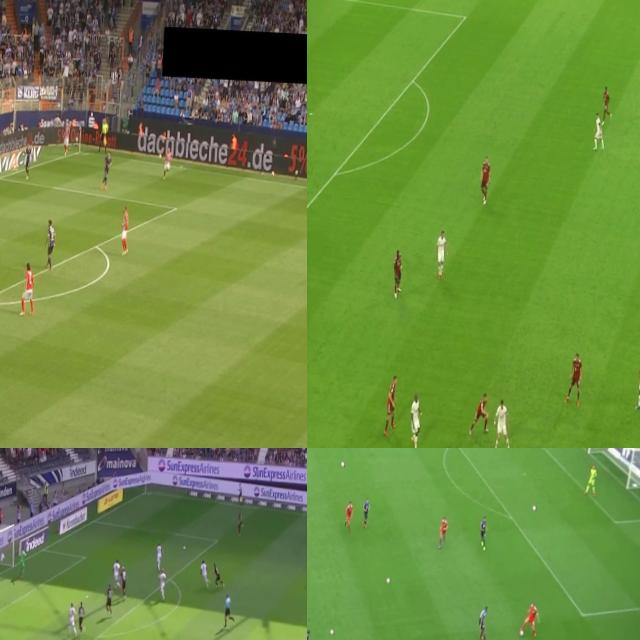ball: (181, 541, 188, 553), (330, 628, 334, 636), (532, 504, 536, 511), (341, 459, 344, 467), (386, 578, 389, 584), (521, 628, 523, 634)
player: (382, 372, 402, 442), (406, 392, 426, 448), (490, 399, 511, 448), (390, 242, 406, 302), (432, 228, 449, 284), (22, 260, 38, 316), (568, 352, 585, 402), (43, 217, 59, 270), (118, 204, 133, 260), (472, 389, 490, 434), (479, 158, 492, 204), (594, 112, 608, 149), (478, 604, 492, 640), (524, 598, 538, 634), (600, 85, 612, 122), (198, 558, 212, 589), (211, 562, 225, 590), (62, 119, 72, 157), (120, 562, 130, 600), (111, 558, 122, 592), (162, 145, 172, 182), (102, 152, 112, 188), (68, 599, 78, 635), (480, 516, 490, 552), (586, 464, 598, 494), (24, 143, 34, 177), (158, 568, 168, 602), (78, 601, 88, 635), (438, 516, 448, 548), (105, 585, 114, 617), (362, 498, 371, 528), (156, 541, 164, 569), (636, 356, 640, 408), (344, 502, 352, 528), (236, 511, 244, 534), (20, 548, 24, 576)
